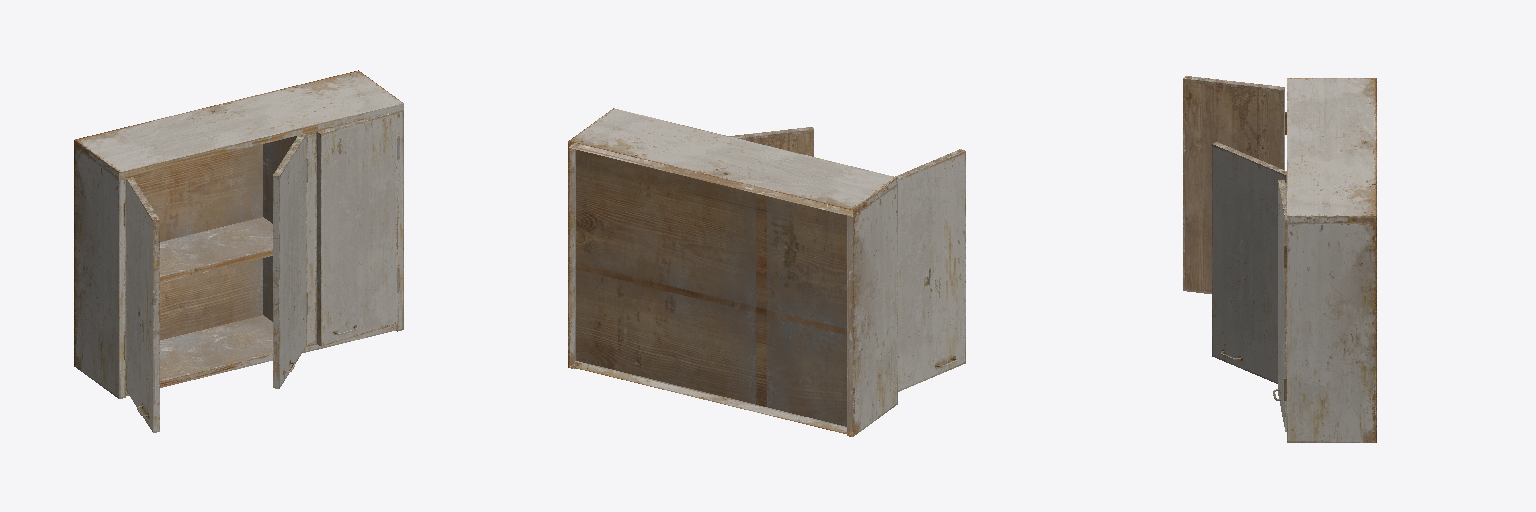
3 renders of one model, left to right at view 1: azimuth 30°, elevation 25°; view 2: azimuth 150°, elevation 25°; view 3: azimuth 270°, elevation 25°, orthographic.
Parts seen in each view (by area): view 1: LODGroup_1_MainMesh_1_Submesh_1, LODGroup_1_MainMesh_3_Submesh_1, LODGroup_1_MainMesh_2_Submesh_1, LODGroup_1_MainMesh_4_Submesh_1; view 2: LODGroup_1_MainMesh_1_Submesh_1, LODGroup_1_MainMesh_2_Submesh_1, LODGroup_1_MainMesh_4_Submesh_1; view 3: LODGroup_1_MainMesh_1_Submesh_1, LODGroup_1_MainMesh_4_Submesh_1, LODGroup_1_MainMesh_2_Submesh_1, LODGroup_1_MainMesh_3_Submesh_1.
Part boxes in pixels (x1,y1,x2,y2): LODGroup_1_MainMesh_1_Submesh_1: (74,70,403,398); LODGroup_1_MainMesh_3_Submesh_1: (317,111,397,346); LODGroup_1_MainMesh_2_Submesh_1: (126,177,159,432); LODGroup_1_MainMesh_4_Submesh_1: (273,134,305,388); LODGroup_1_MainMesh_1_Submesh_1: (568,108,897,436); LODGroup_1_MainMesh_2_Submesh_1: (895,149,965,391); LODGroup_1_MainMesh_4_Submesh_1: (730,127,813,156); LODGroup_1_MainMesh_1_Submesh_1: (1284,78,1376,442); LODGroup_1_MainMesh_4_Submesh_1: (1212,142,1286,383); LODGroup_1_MainMesh_2_Submesh_1: (1183,76,1284,293); LODGroup_1_MainMesh_3_Submesh_1: (1273,180,1286,431).
Bounding box in the file's own units: 147 × 106 × 81.71.
1 materials, 1 textured.